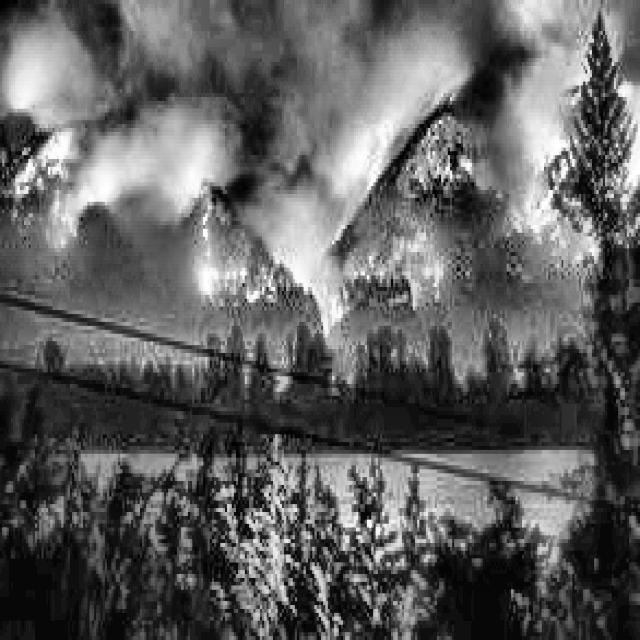fire: (8, 15, 624, 393)
